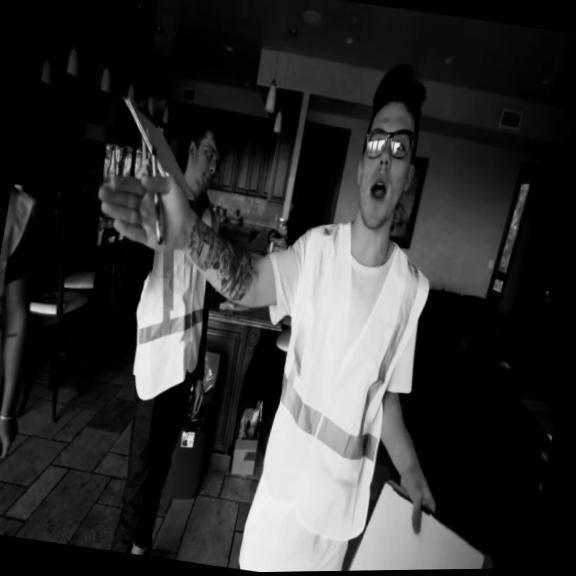safety_vest: (250, 209, 436, 549), (120, 191, 223, 410), (0, 166, 37, 424)
